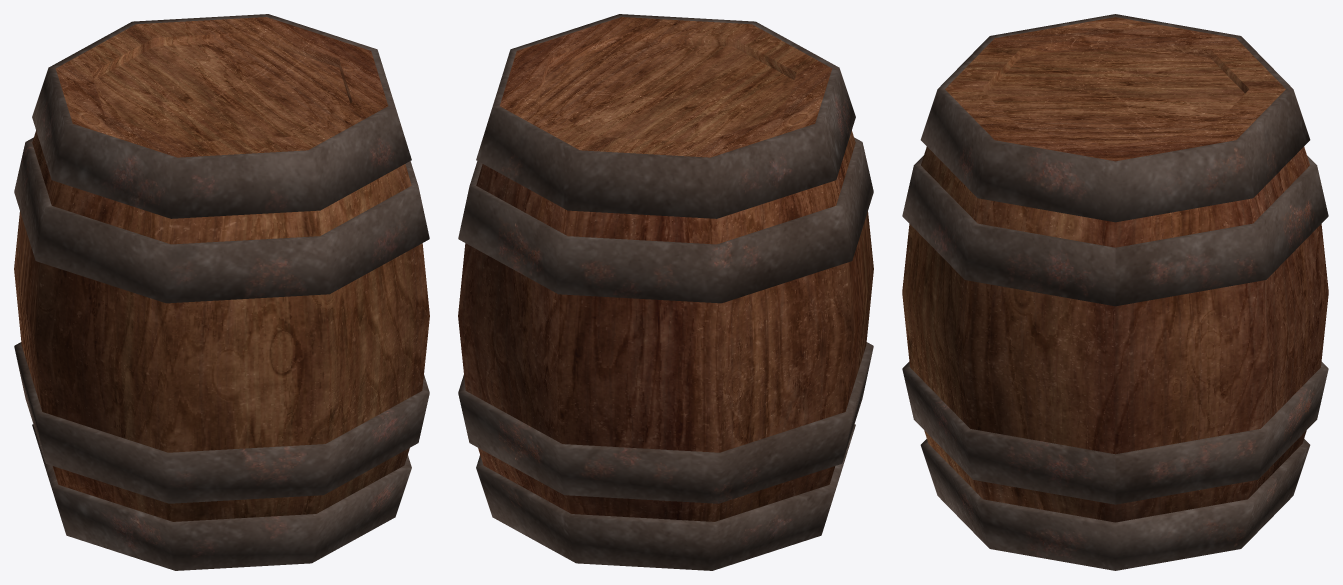
File: barrel_lowpoly.fbx
3 renders of one model, left to right at view 1: azimuth 30°, elevation 25°; view 2: azimuth 150°, elevation 25°; view 3: azimuth 270°, elevation 25°, orthographic.
Visible parts, largest first — view 1: barrel.lowpoly; view 2: barrel.lowpoly; view 3: barrel.lowpoly.
Part boxes in pixels (x1=…): barrel.lowpoly: x1=14, y1=14, x2=429, y2=570; barrel.lowpoly: x1=458, y1=14, x2=873, y2=570; barrel.lowpoly: x1=902, y1=14, x2=1328, y2=570.
Size of the model in its own units: 63.76 by 67.04 by 63.76.
